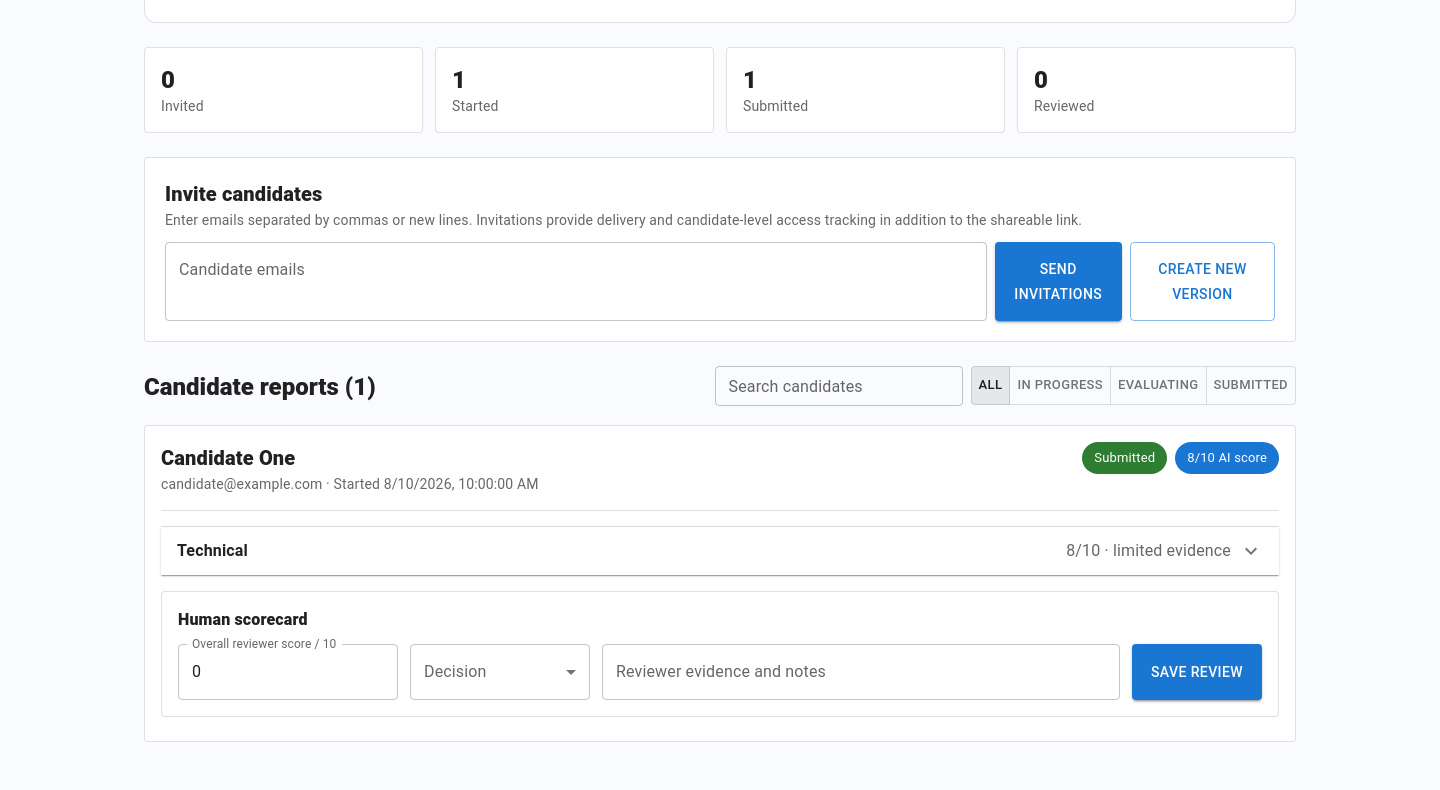
Test: assessment management report › clears the local reviewer draft after saving, so a later reload's server value isn't permanently shadowed by the stale local edit
The width and height of the screenshot is (1440, 790).
(page scrolled)
Replace the text in the number field labelled "Overall reviewer score / 10" with "9" at (288, 672), box [178,644,398,700]
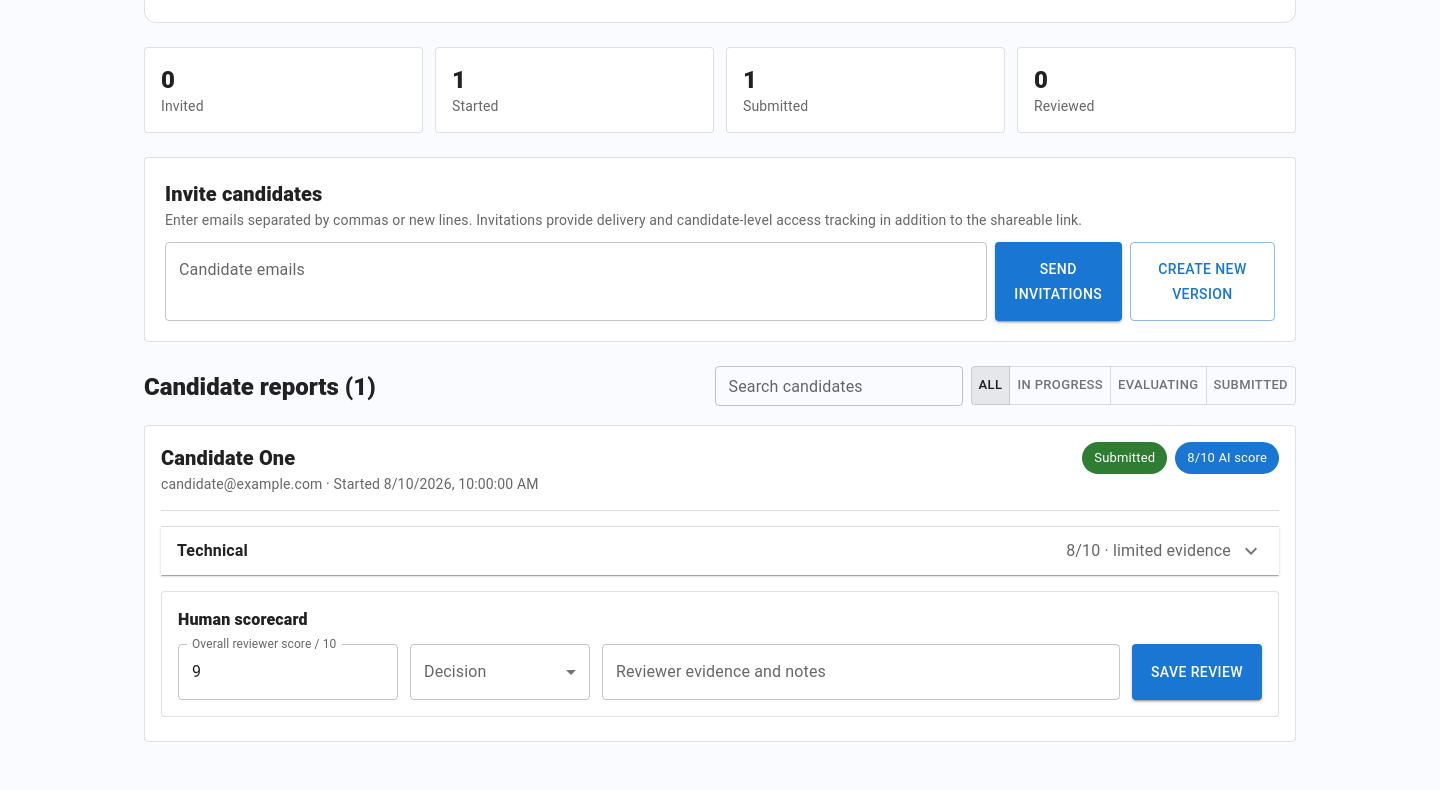
Click the button "Save review" at (1197, 672), box [1132,644,1262,700]
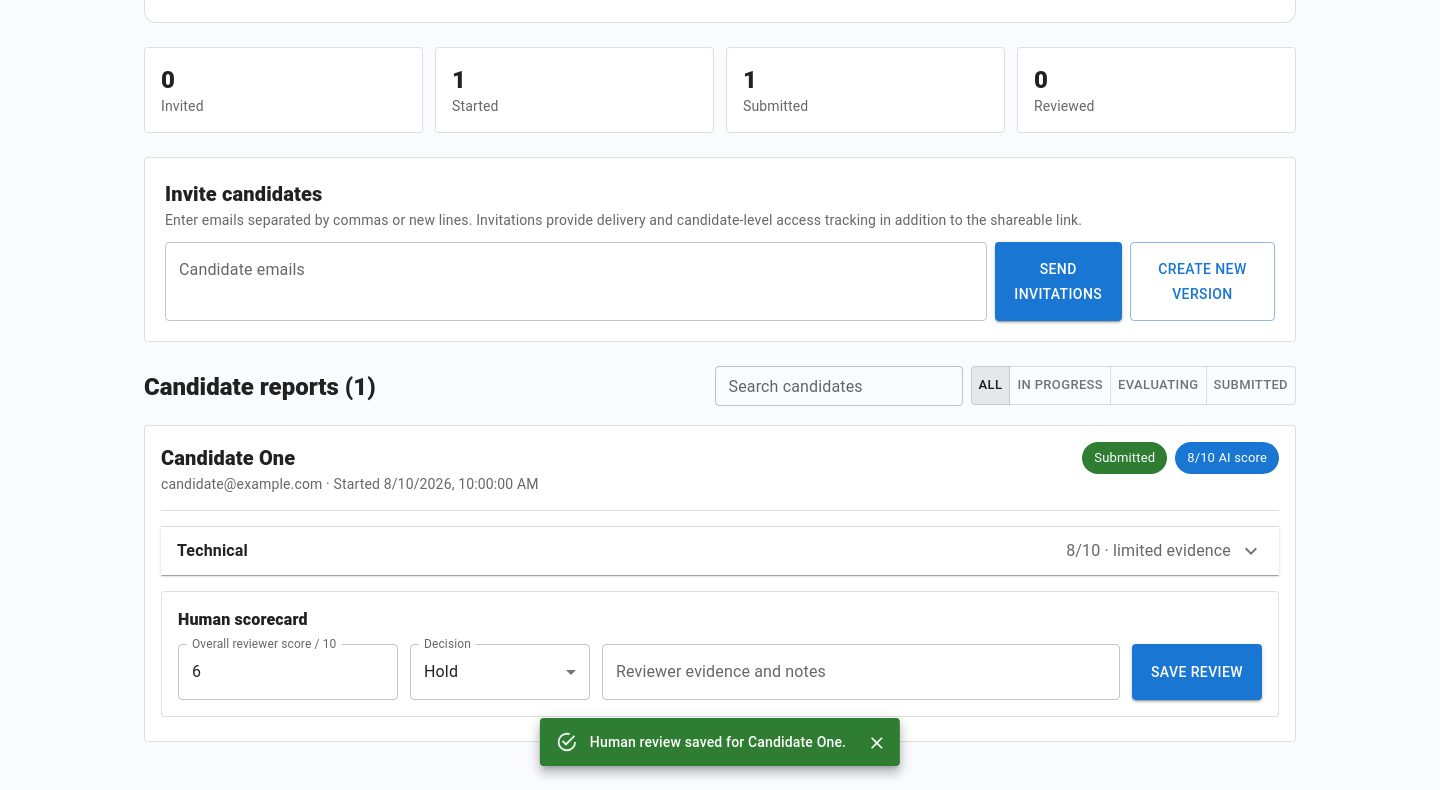
expect the number field labelled "Overall reviewer score / 10" holds "6": met, box [178,644,398,700]
